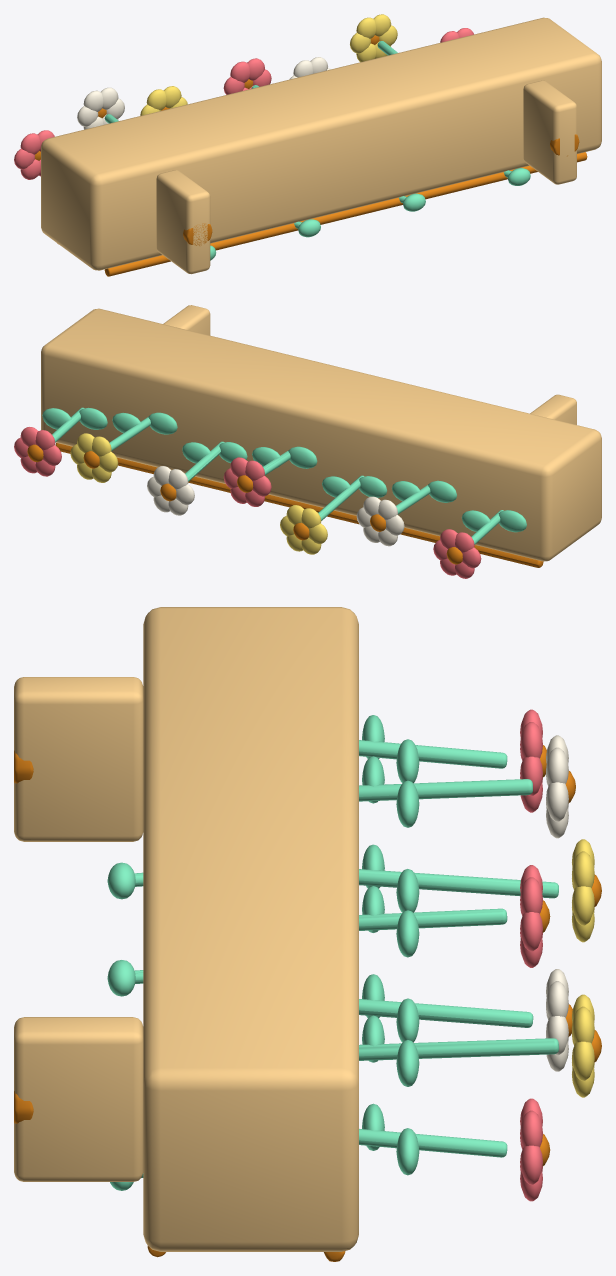
The model's file is BalconyRailingFlowers_Premium.fbx.
The picture shows the model from 3 angles, top to bottom: view 1: azimuth 30°, elevation 25°; view 2: azimuth 150°, elevation 25°; view 3: azimuth 270°, elevation 25°; orthographic projection. The views are drawn at different scales.
Visible parts, largest first — view 1: BalconyRailingFlowers; view 2: BalconyRailingFlowers; view 3: BalconyRailingFlowers.
Boxes of the visible parts, box(x1,y1,x2,y2) form: BalconyRailingFlowers: box(14, 14, 601, 276); BalconyRailingFlowers: box(14, 305, 601, 578); BalconyRailingFlowers: box(14, 607, 601, 1261).
Size of the model in its own units: 1.56 by 0.3077 by 0.818.
